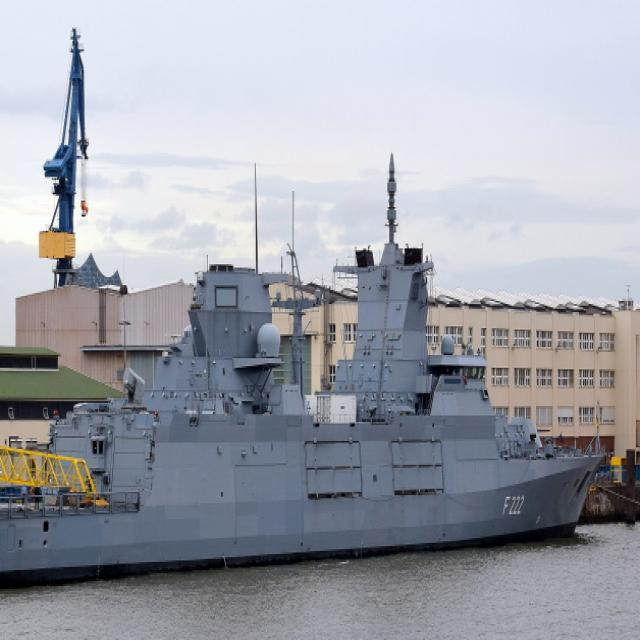Fragata: (1, 143, 617, 595)
